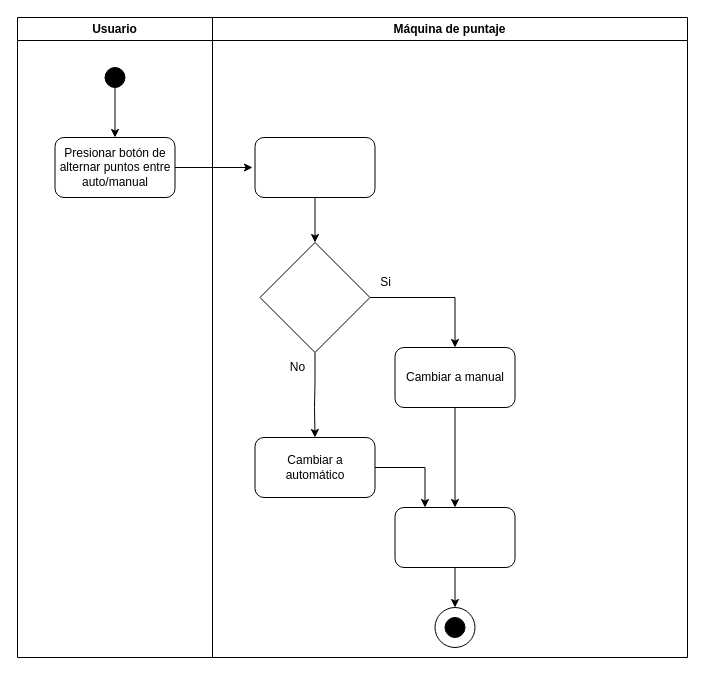
Image size: 705x675. Some labels were removed from this diagram. The shapes that lost their labels are listed below. From the top down, each one's centre as x and y in pixels, then its label:
pixel 314 167: Detectar botón presionado
pixel 314 297: Puntos automáticos?
pixel 454 537: Actualizar Display
